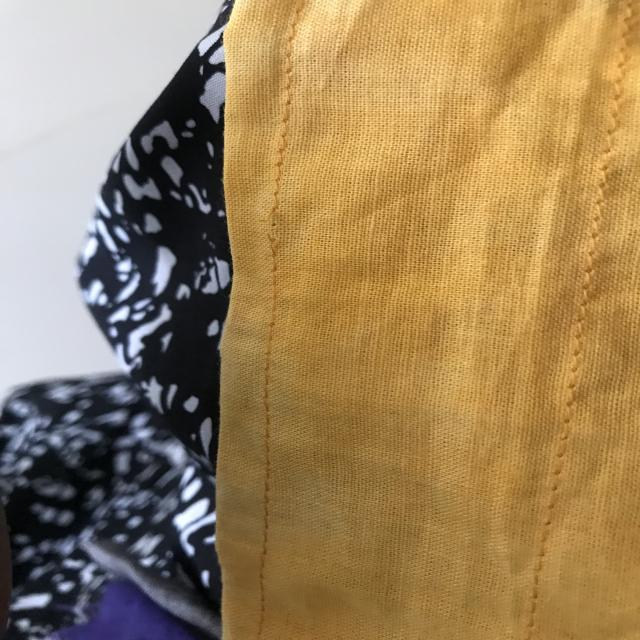broken: (248, 192, 298, 266)
